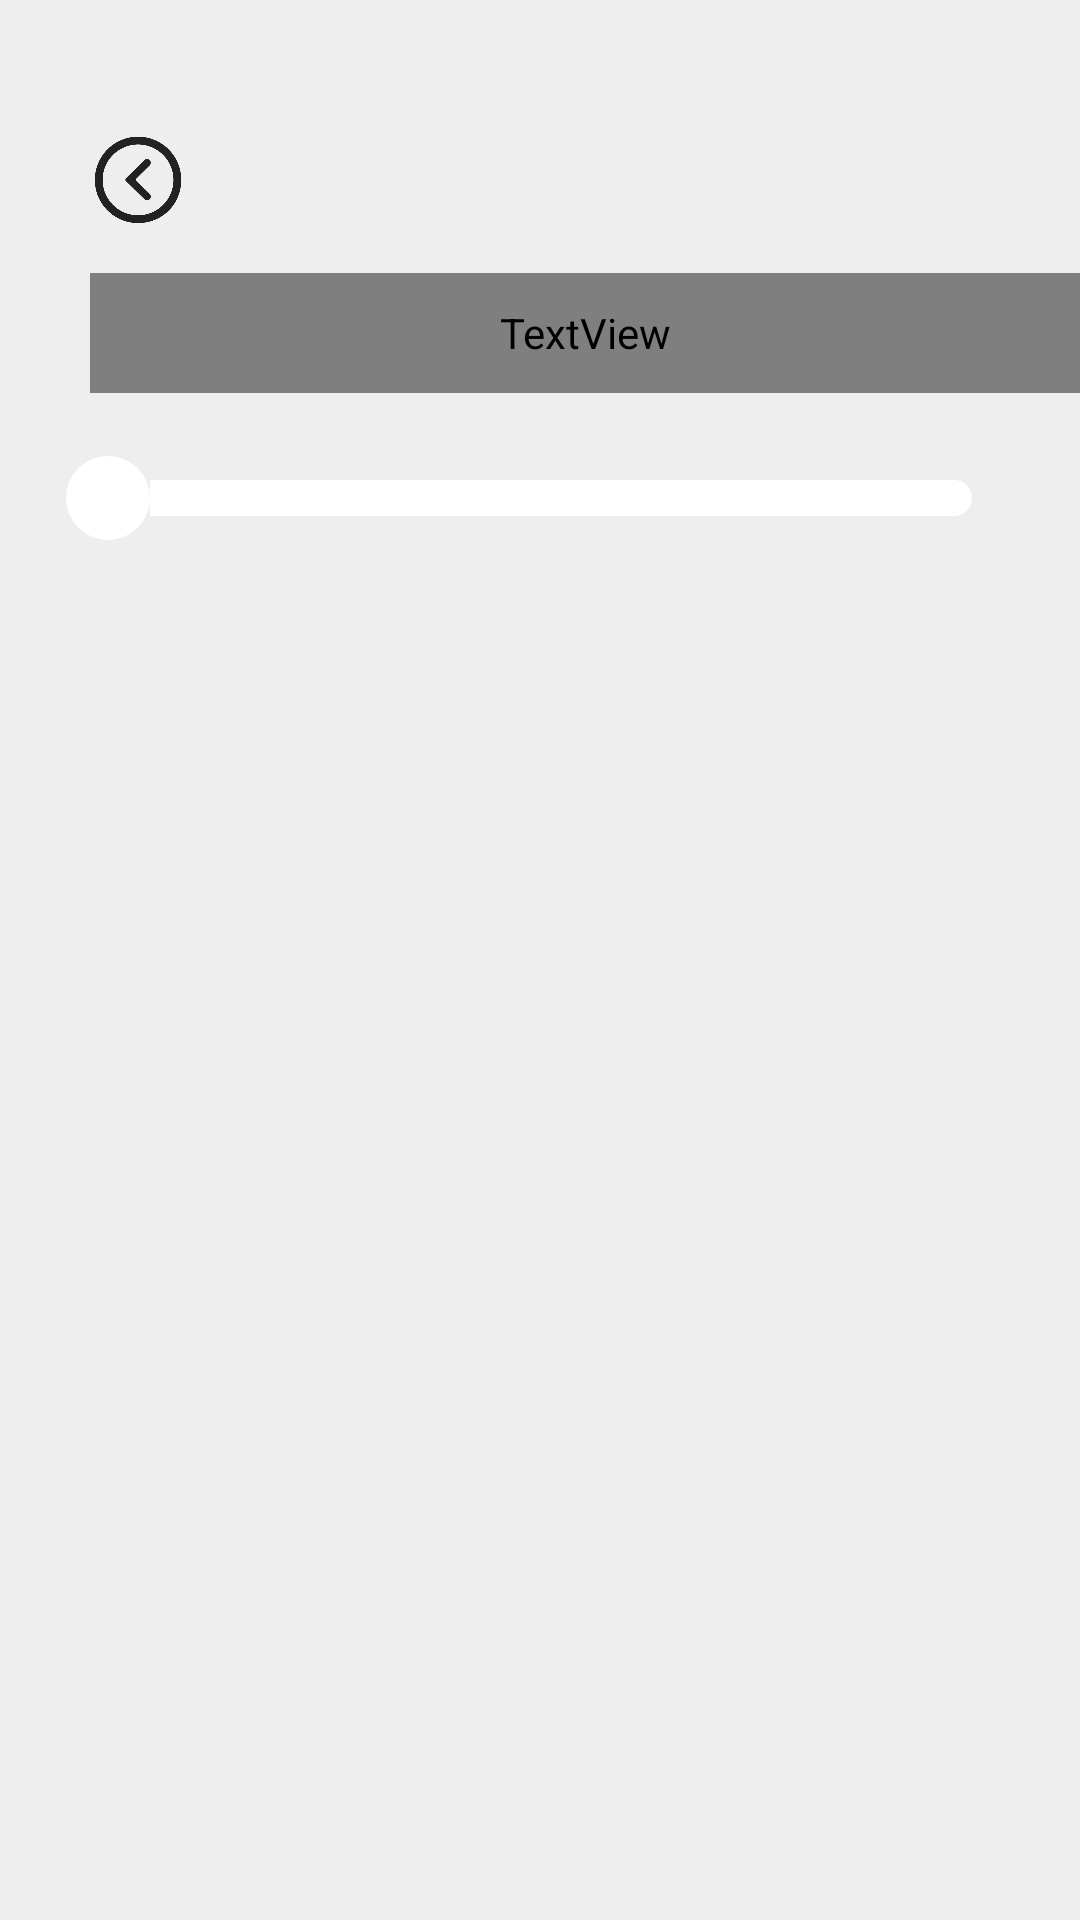

Where to tap for icons on this 1080px×1920px app screen, as (x=x, y=y):
fanhui: (x=138, y=180)
